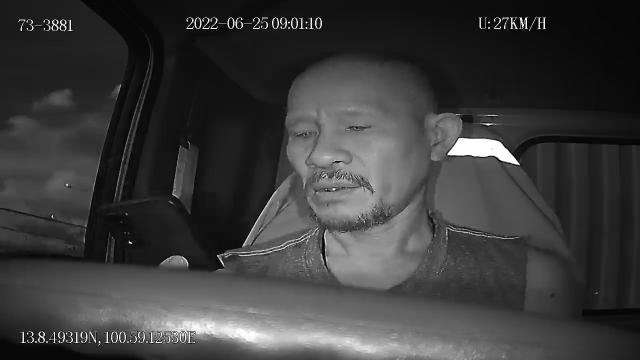PhoneUse: (96, 192, 224, 274)
SafeDriving: (336, 111, 381, 139), (286, 115, 322, 146)
